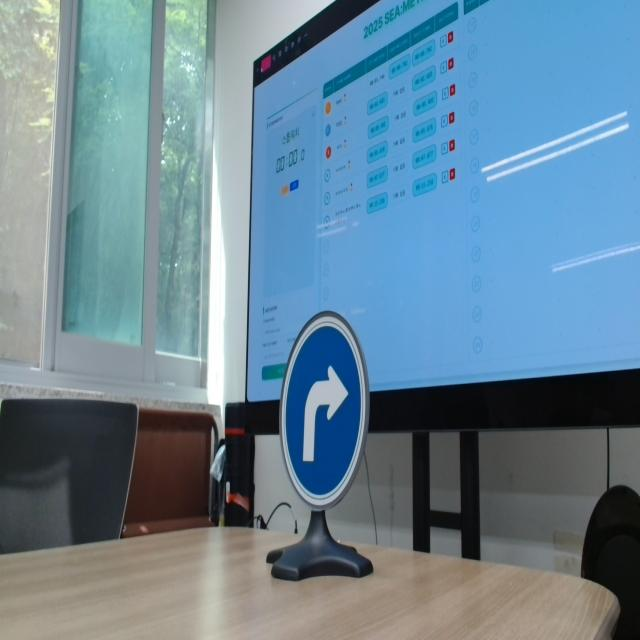right_dierection: (274, 309, 387, 520)
